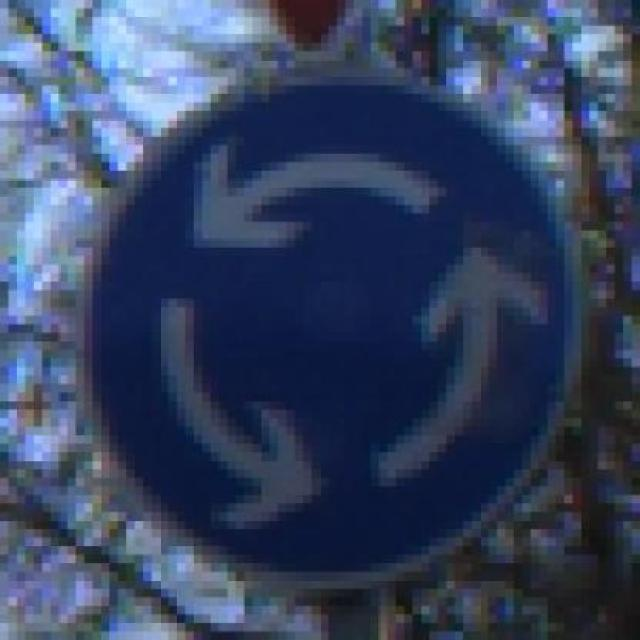Round-About: (59, 42, 598, 598)
